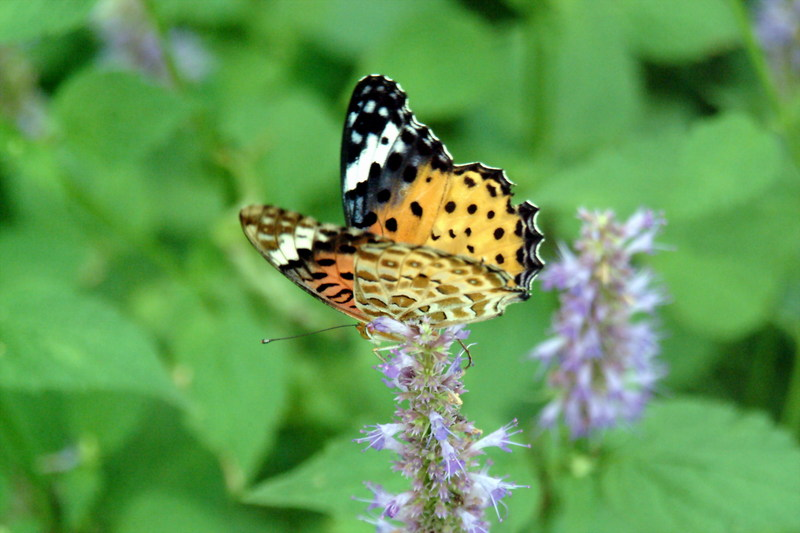Argyreus hyperbius: (232, 62, 550, 370)
butterfly: (234, 64, 552, 372)
